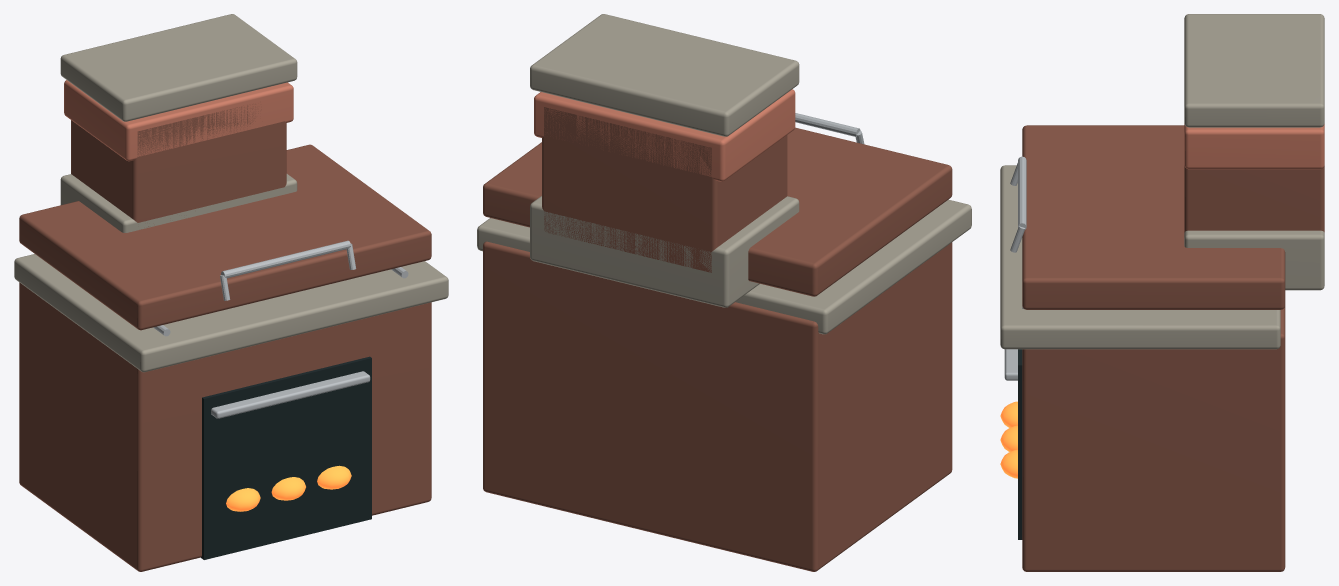
The model's file is bbq_brick.glb.
The picture shows the model from 3 angles, left to right: view 1: azimuth 30°, elevation 25°; view 2: azimuth 150°, elevation 25°; view 3: azimuth 270°, elevation 25°; orthographic projection. The views are drawn at different scales.
Parts seen in each view (by area): view 1: Brick plinth, Brick apron, Firebox opening, Work ledge, Chimney stack, Chimney cap, Tint, Chimney flashing, Grill grate.002, Skewer rail, Ember, Ember.002 (+1 smaller); view 2: Brick plinth, Chimney stack, Brick apron, Chimney cap, Chimney flashing, Work ledge, Tint, Skewer rail; view 3: Brick plinth, Brick apron, Chimney cap, Work ledge, Chimney stack, Tint, Chimney flashing, Firebox opening, Skewer rail, Grill grate.002.
Boxes of the visible parts, x1,y1,x2,y2 form: Brick plinth: (19, 282, 431, 571); Brick apron: (19, 144, 431, 330); Firebox opening: (201, 356, 371, 559); Work ledge: (14, 254, 448, 372); Chimney stack: (71, 104, 286, 226); Chimney cap: (60, 14, 297, 121); Tint: (64, 80, 293, 161); Chimney flashing: (60, 174, 297, 232); Grill grate.002: (211, 371, 370, 418); Skewer rail: (221, 240, 350, 278); Ember: (226, 488, 260, 511); Ember.002: (317, 465, 351, 489); Brick plinth: (483, 241, 952, 571); Chimney stack: (542, 107, 787, 272); Brick apron: (483, 127, 952, 296); Chimney cap: (530, 14, 799, 136); Chimney flashing: (530, 196, 799, 307); Work ledge: (477, 199, 971, 334); Tint: (534, 89, 795, 181); Skewer rail: (795, 113, 860, 137); Brick plinth: (1022, 306, 1285, 571); Brick apron: (1022, 125, 1285, 309); Chimney cap: (1184, 14, 1324, 127); Work ledge: (1000, 165, 1280, 349); Chimney stack: (1184, 165, 1324, 232); Tint: (1184, 123, 1324, 169); Chimney flashing: (1184, 230, 1324, 290); Firebox opening: (1018, 349, 1022, 539); Skewer rail: (1018, 156, 1026, 229); Grill grate.002: (1004, 349, 1017, 380).
Bounding box in the file's own units: 0.88 × 1.1 × 0.74.
